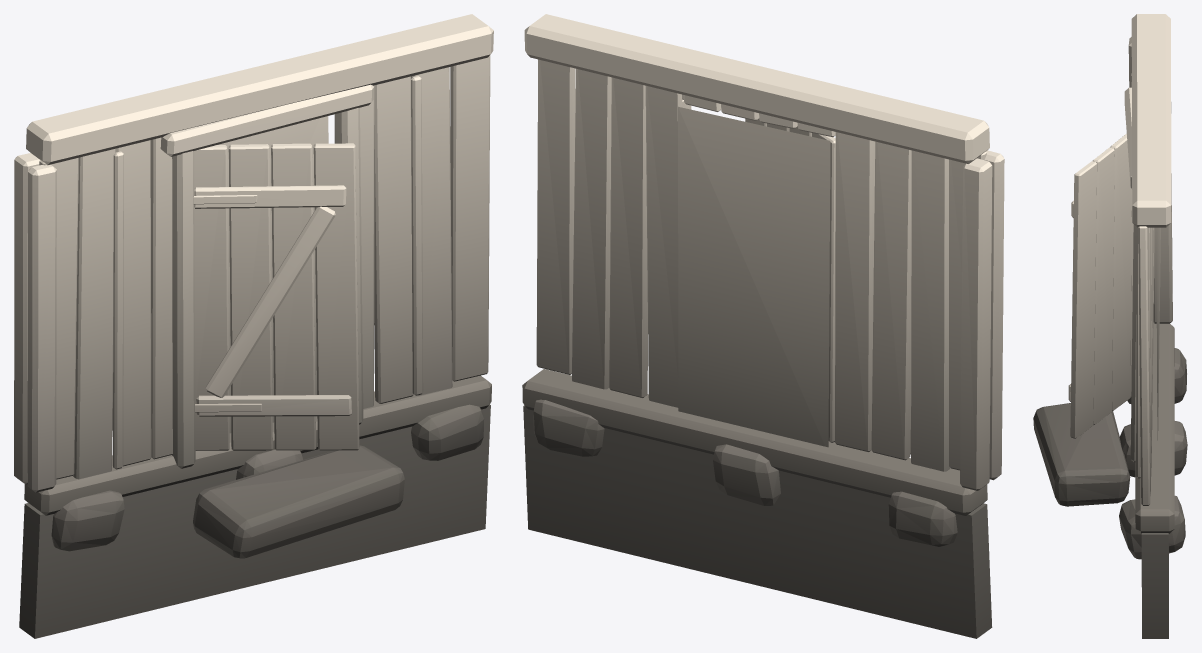
Rendered from SM_VK_Wall_Shed_Door.fbx.
3 renders of one model, left to right at view 1: azimuth 30°, elevation 25°; view 2: azimuth 150°, elevation 25°; view 3: azimuth 270°, elevation 25°, orthographic. The views are drawn at different scales.
Visible parts, largest first — view 1: SM_VK_Wall_Shed_Door.001; view 2: SM_VK_Wall_Shed_Door.001; view 3: SM_VK_Wall_Shed_Door.001.
Part boxes in pixels (<box>): SM_VK_Wall_Shed_Door.001: <box>14,14,493,638</box>; SM_VK_Wall_Shed_Door.001: <box>522,14,1004,638</box>; SM_VK_Wall_Shed_Door.001: <box>1033,14,1187,638</box>.
Bounding box in the file's own units: 3.09 × 3.21 × 1.02.
